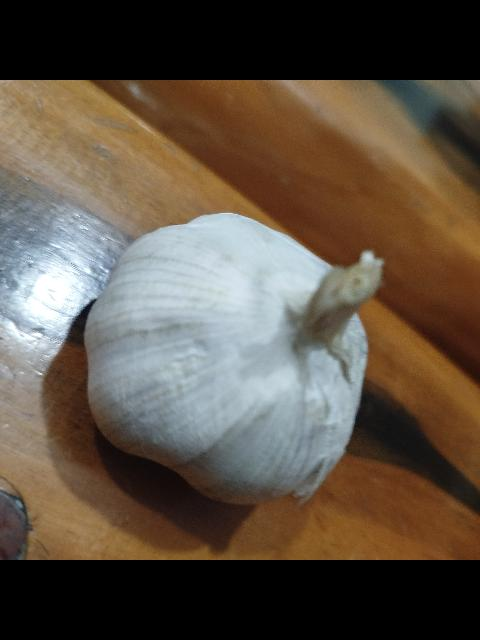garlic: (82, 212, 384, 506)
